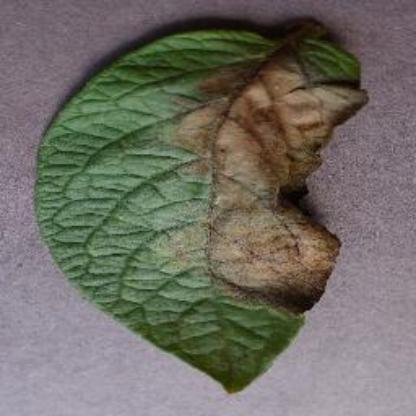Late-Blight: (27, 10, 392, 402)
